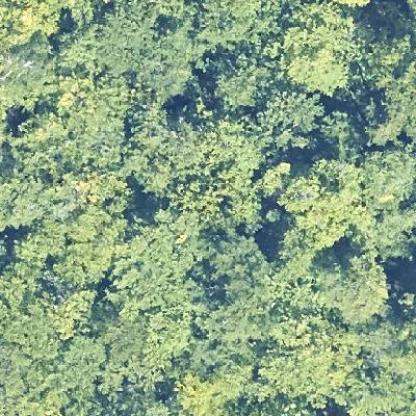tree-top: (197, 226, 280, 344), (95, 0, 196, 96), (11, 204, 122, 291), (275, 154, 370, 245), (263, 313, 354, 407), (351, 27, 415, 144), (125, 101, 203, 191), (124, 206, 205, 287), (316, 244, 395, 326), (278, 19, 354, 100), (256, 79, 324, 148), (354, 144, 415, 213), (207, 52, 266, 112), (170, 367, 224, 414)
